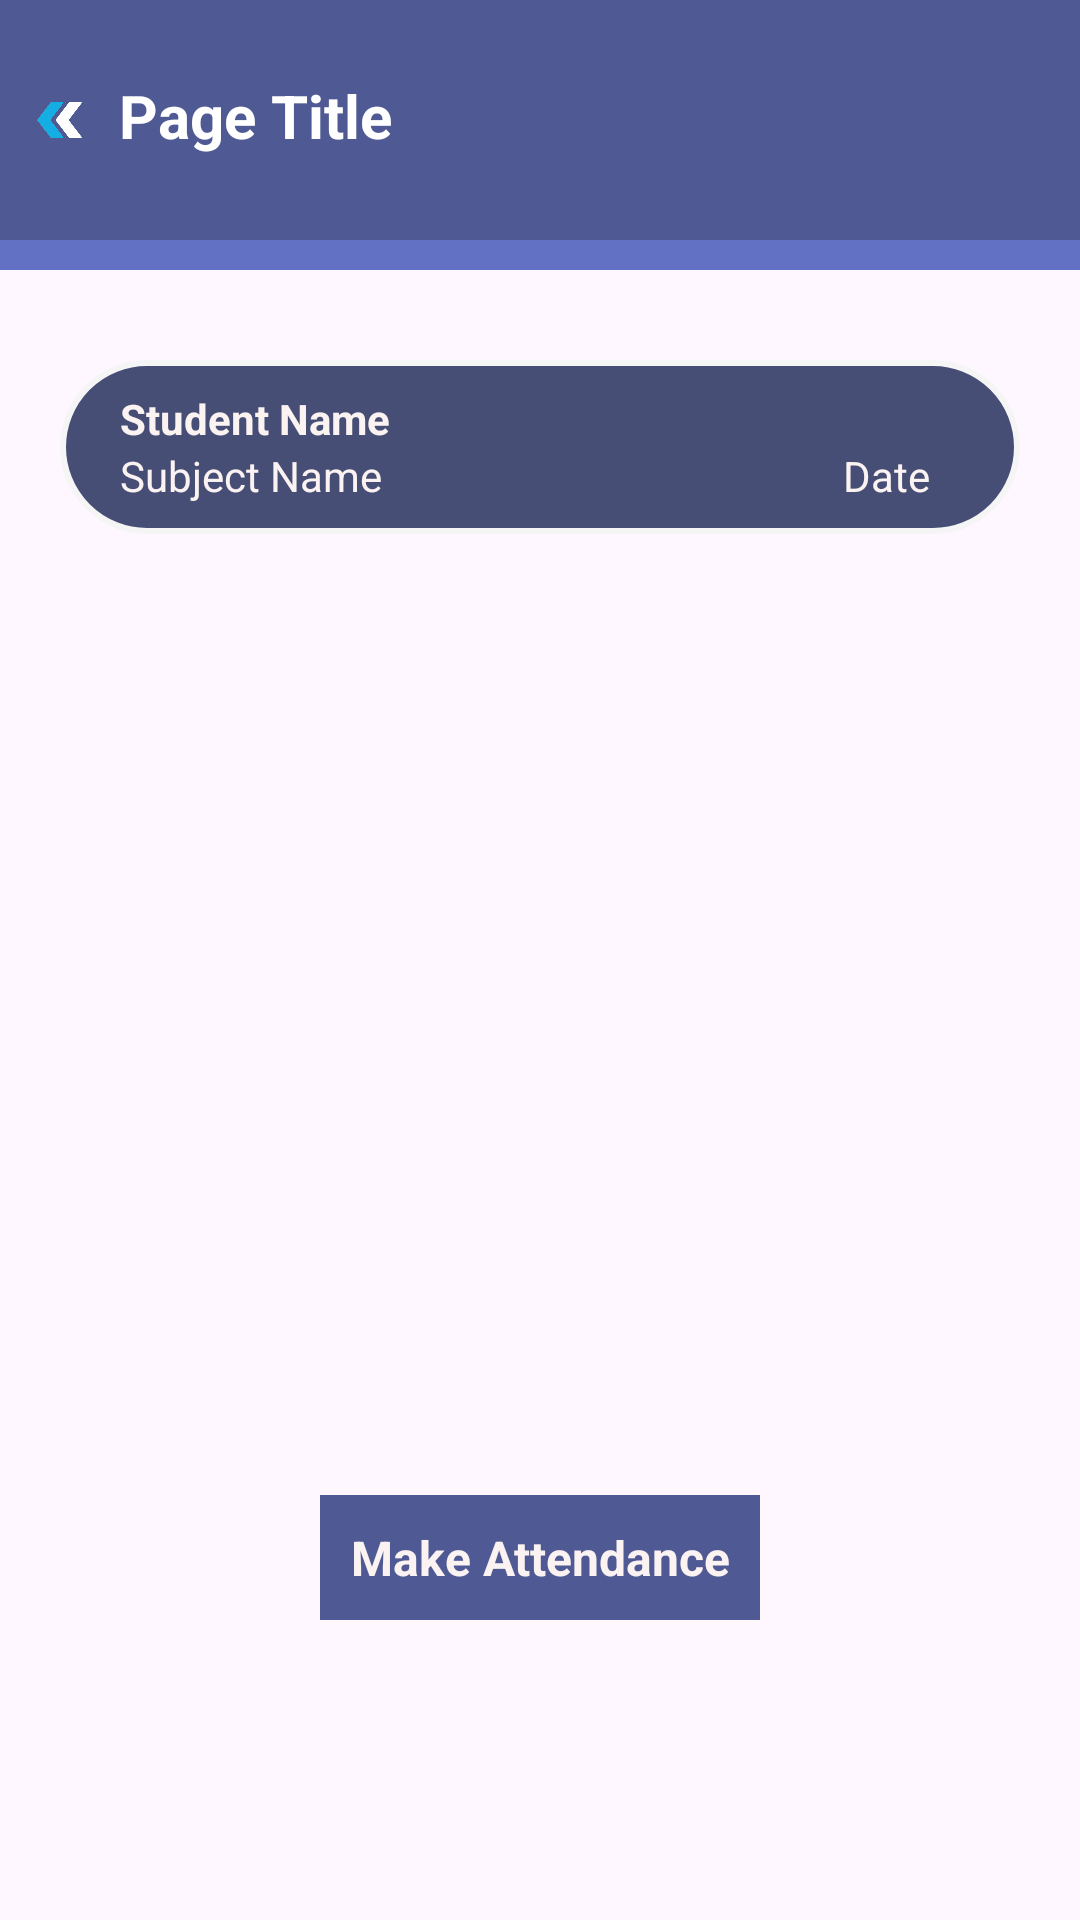

Icons on this 1080px x 1920px Android screen, each with the point to tap as (x,y):
doule arrowpreview: (59,120)
